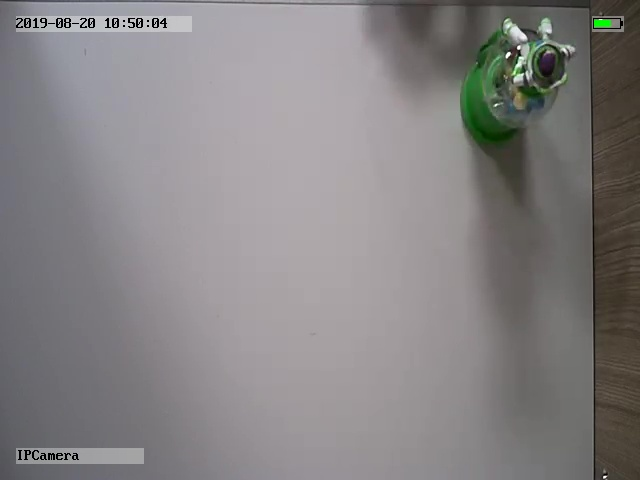buzz: (459, 16, 574, 148)
